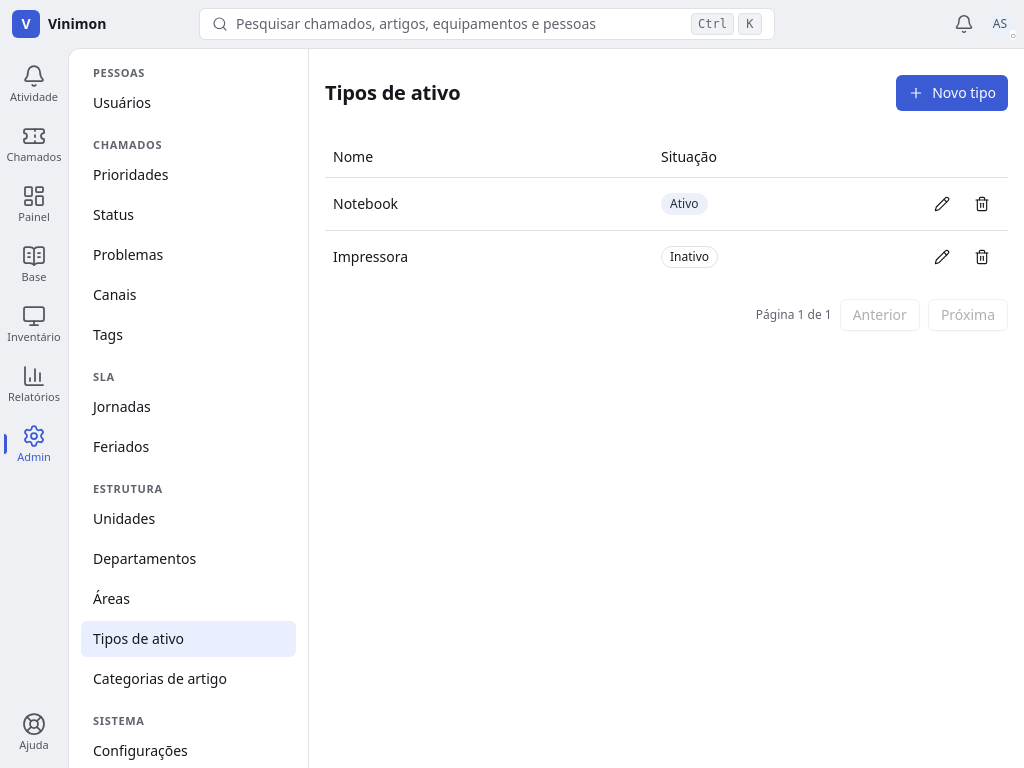
Test case: /admin/tipos-ativo › (c) 409 ao excluir mostra a mensagem do servidor
Click the button named "Excluir Notebook". click: coordinates (982, 204)
box: x1=964 y1=186 x2=1000 y2=222
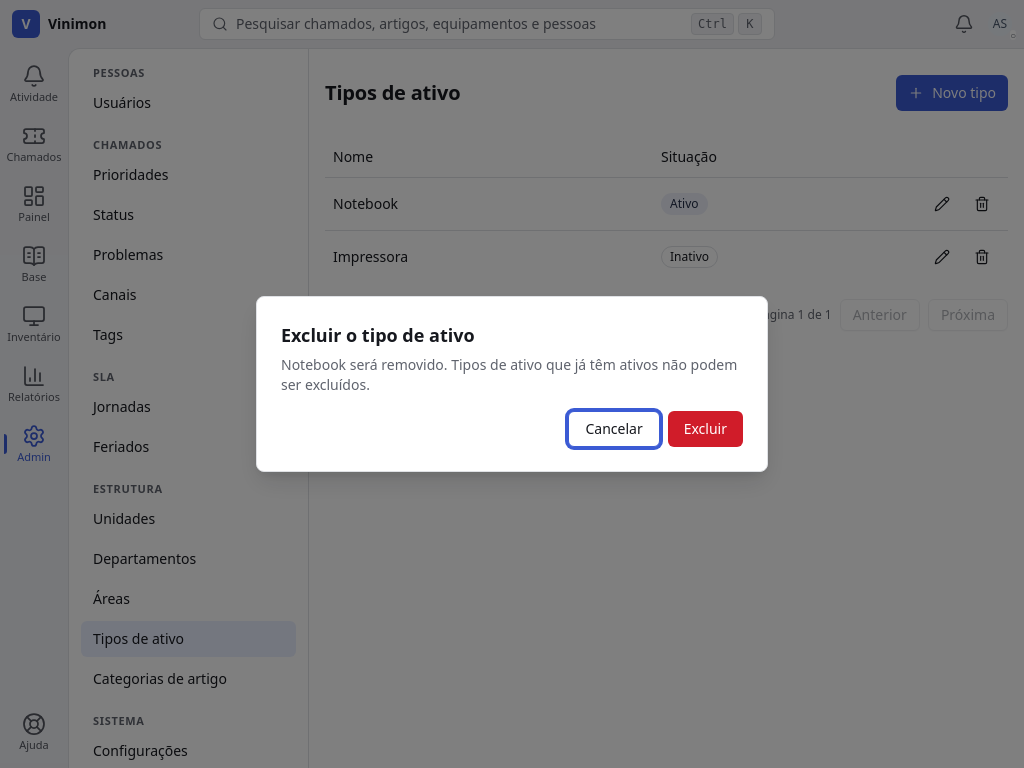
Click the button "Excluir". click: coordinates (705, 429)
box: x1=668 y1=411 x2=743 y2=447
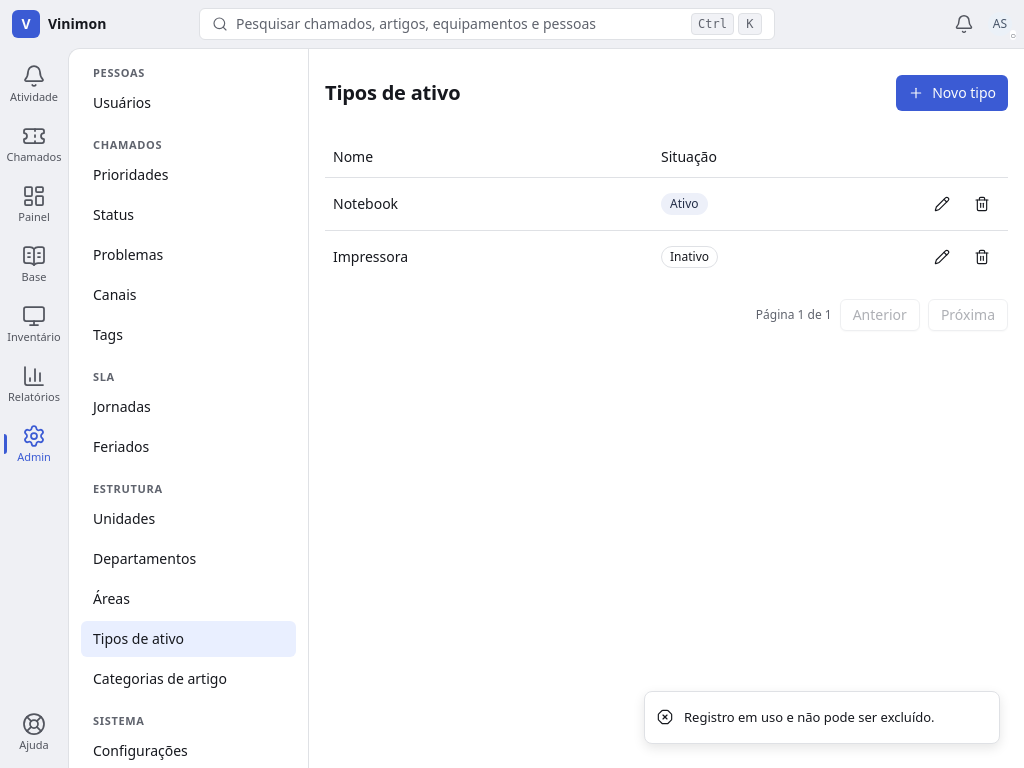
Now the text "Registro em uso e não pode ser excluído." is shown, box x1=684 y1=708 x2=935 y2=727
